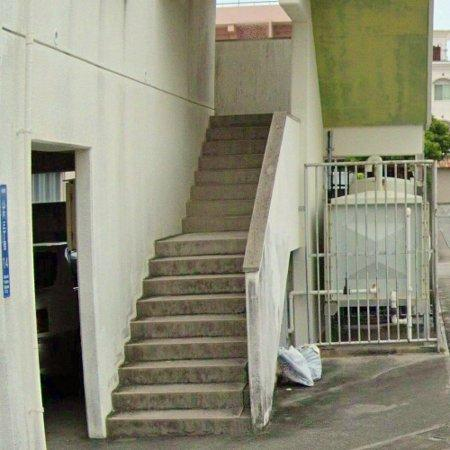stairs: (107, 115, 271, 438)
